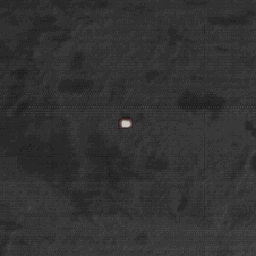Target: (119, 119, 131, 128)
